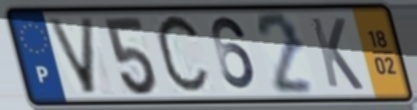2: (255, 9, 322, 101)
5: (99, 14, 159, 98)
6: (209, 14, 260, 96)
C: (152, 10, 213, 100)
K: (307, 15, 367, 93)
V: (43, 16, 99, 97)
